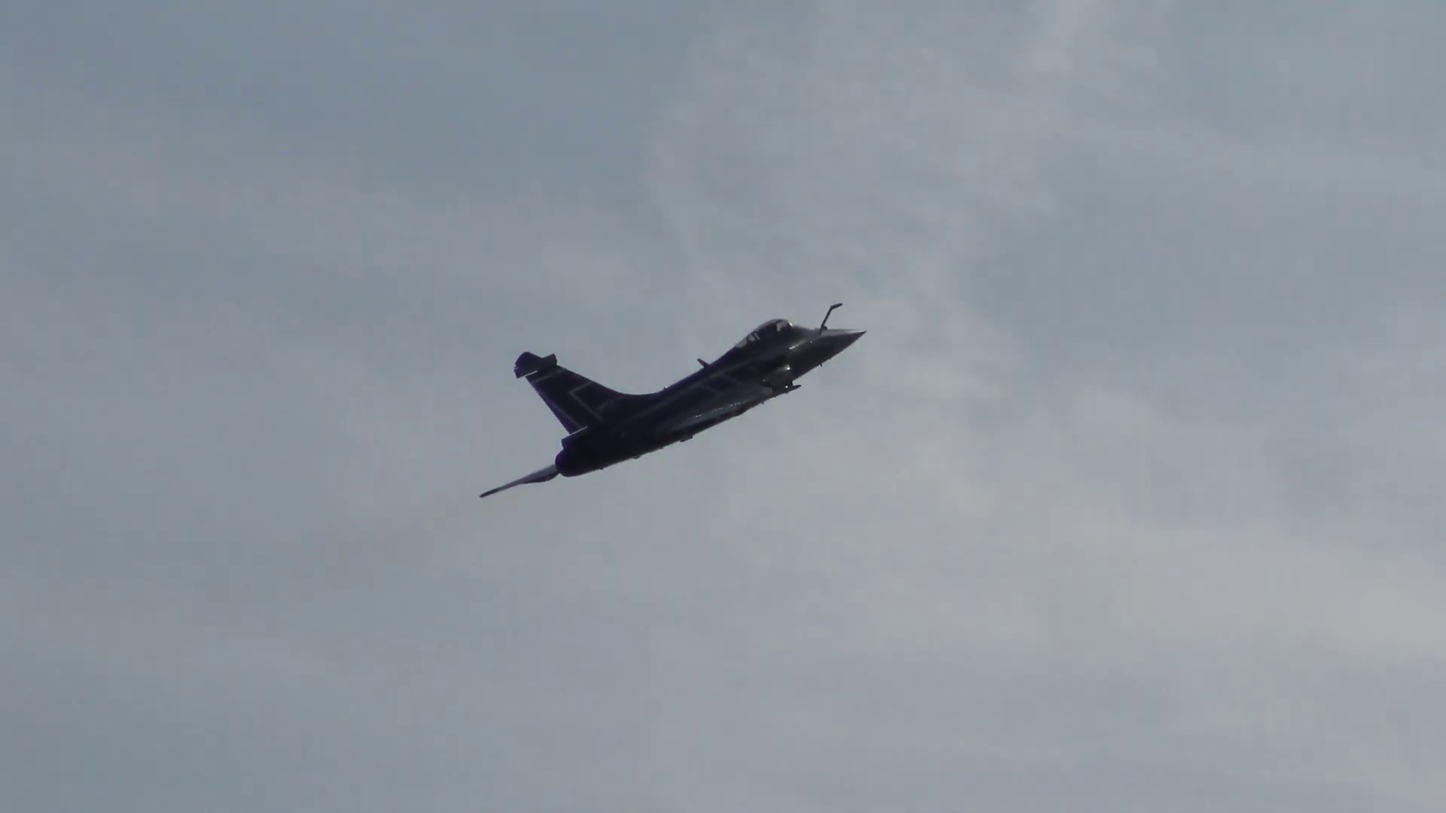Rafale: (477, 309, 863, 495)
